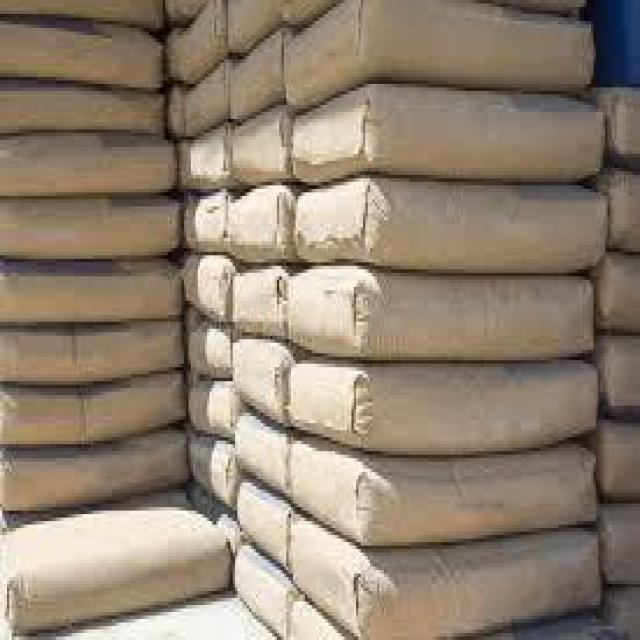gunny_bag: (287, 510, 603, 640), (285, 3, 595, 117), (294, 441, 601, 551), (291, 175, 606, 278), (290, 263, 595, 365), (1, 508, 231, 639), (296, 83, 600, 182), (290, 360, 597, 455), (0, 425, 186, 514), (2, 375, 181, 447), (3, 260, 178, 328), (8, 320, 178, 383), (4, 23, 163, 88), (0, 135, 168, 195), (3, 198, 174, 251), (0, 82, 163, 135), (228, 27, 289, 118), (233, 474, 293, 561), (227, 188, 296, 261), (236, 410, 291, 493), (187, 425, 237, 516), (234, 341, 287, 425), (178, 120, 234, 196), (171, 2, 221, 82), (233, 113, 288, 185), (180, 60, 227, 140), (232, 265, 285, 335), (185, 249, 231, 329), (601, 340, 636, 413), (183, 197, 231, 250), (188, 316, 229, 378), (603, 256, 639, 326), (188, 383, 232, 440), (600, 426, 633, 495)
